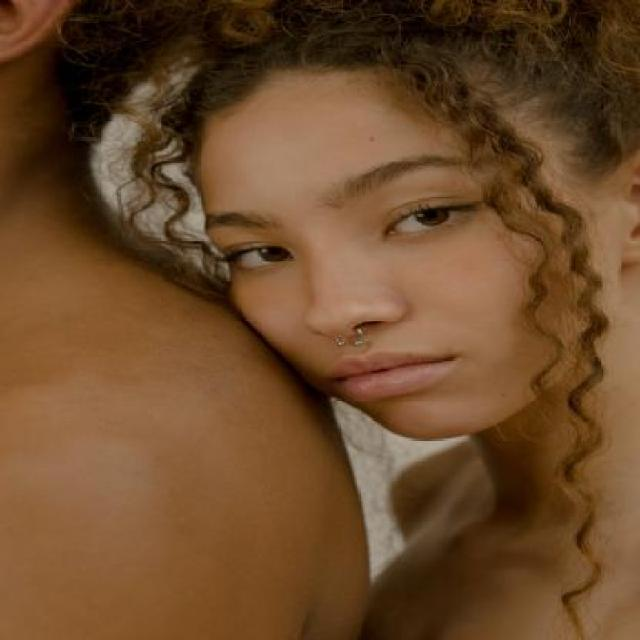closed-mouth: (310, 342, 466, 404)
